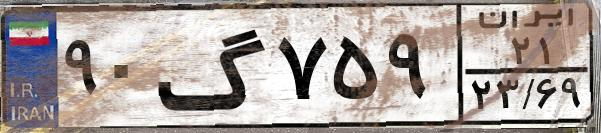0: (110, 28, 156, 98)
1: (537, 27, 568, 80)
2: (508, 27, 537, 80), (470, 70, 495, 125)
3: (495, 70, 520, 125)
5: (330, 28, 385, 110)
6: (535, 70, 560, 125)
7: (270, 28, 330, 110)
9: (385, 28, 445, 110), (57, 26, 110, 100), (560, 70, 590, 125)
گ: (156, 12, 270, 120)
